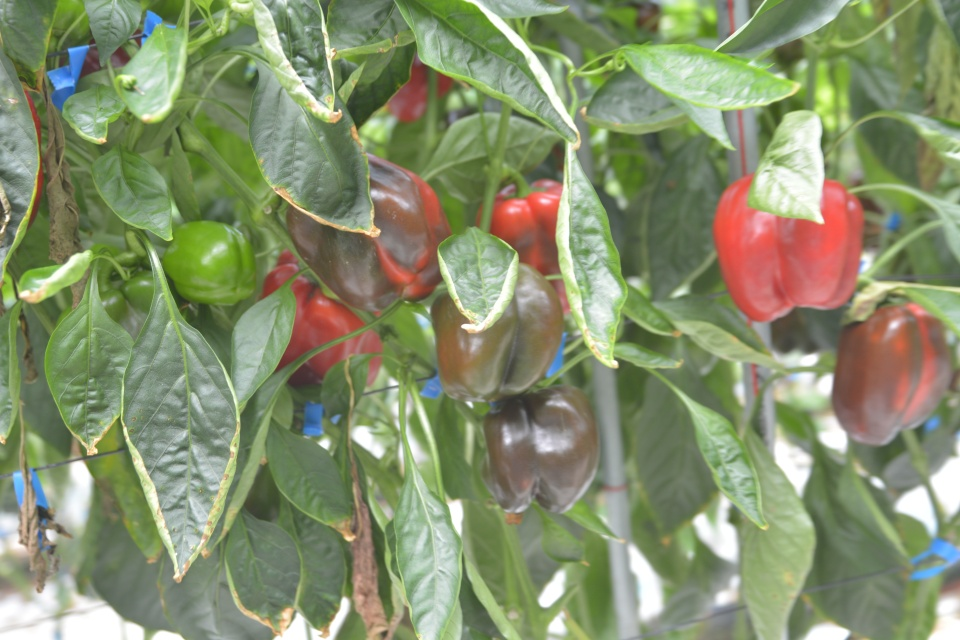fruit: (285, 149, 453, 313), (710, 168, 866, 324), (428, 259, 565, 404), (828, 299, 957, 448), (259, 245, 383, 390), (478, 382, 602, 515), (474, 176, 571, 316), (162, 219, 255, 307), (98, 268, 180, 344), (386, 48, 454, 121), (58, 26, 141, 80)
pedicle: (504, 186, 548, 195)
